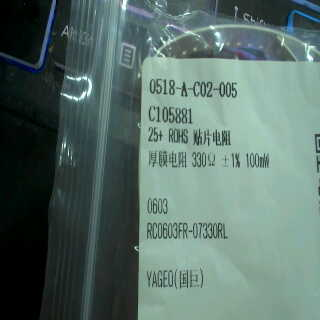330R: (189, 149, 219, 169)
